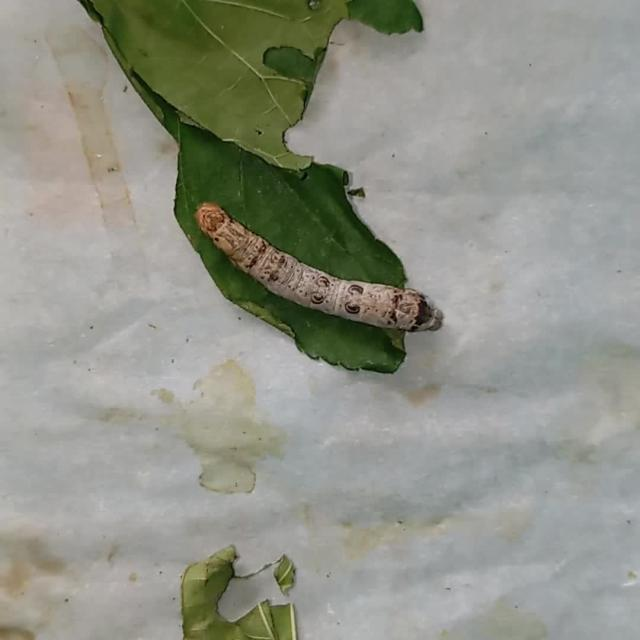Grasserie: (187, 187, 448, 351)
